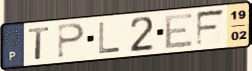2: (129, 15, 156, 54)
E: (164, 11, 195, 51)
F: (195, 7, 228, 49)
L: (98, 20, 122, 54)
P: (56, 22, 87, 60)
T: (27, 26, 52, 62)
